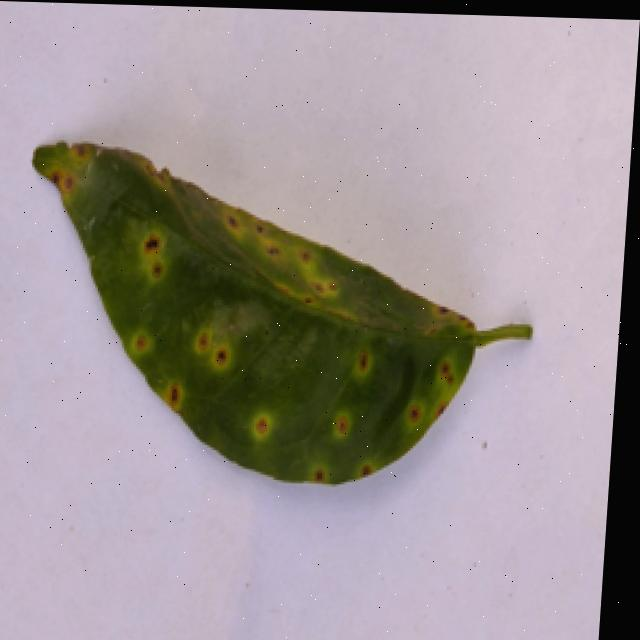canker: (35, 142, 530, 479), (209, 183, 363, 308), (399, 291, 495, 469), (28, 133, 106, 226), (134, 220, 174, 293), (188, 327, 242, 378), (117, 318, 161, 368), (344, 338, 378, 387), (154, 374, 190, 419), (246, 406, 277, 446), (325, 411, 355, 449), (348, 461, 380, 490), (307, 468, 330, 481)
